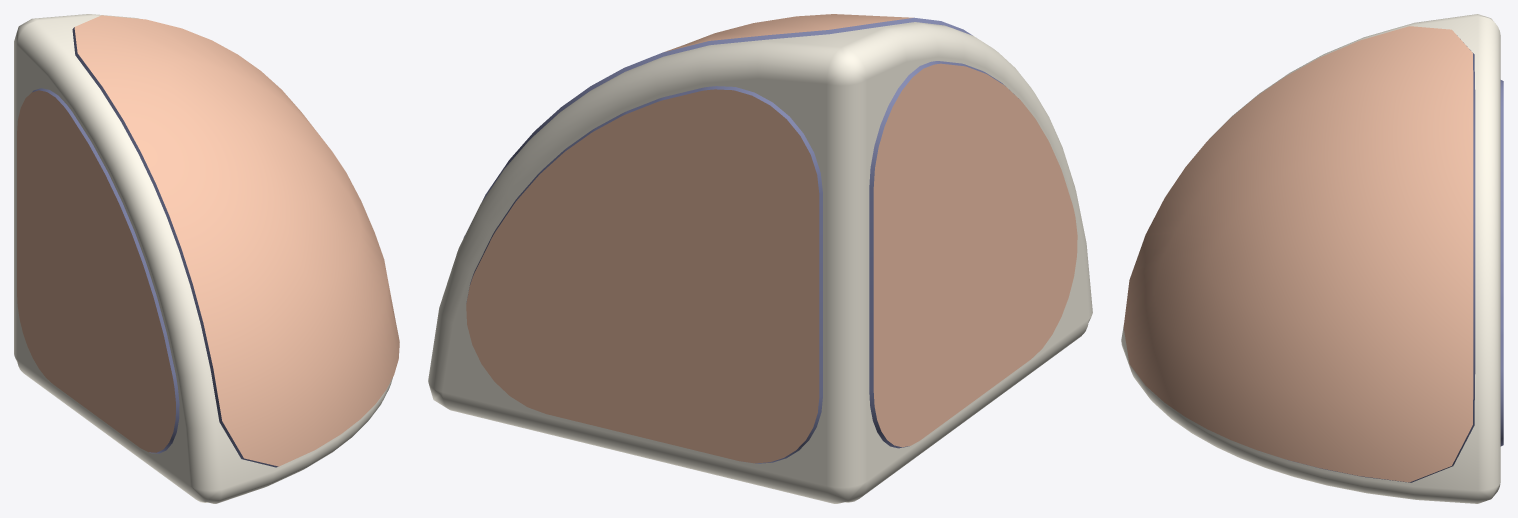
Rendered from R4B_RoundCorner.fbx.
3 views of the same model, side by side, from view 1: azimuth 30°, elevation 25°; view 2: azimuth 150°, elevation 25°; view 3: azimuth 270°, elevation 25° (orthographic). The views are drawn at different scales.
Visible parts, largest first — view 1: R4B_RoundCorner; view 2: R4B_RoundCorner; view 3: R4B_RoundCorner.
Boxes of the visible parts, bbox=[...] form: R4B_RoundCorner: bbox=[14, 14, 399, 503]; R4B_RoundCorner: bbox=[428, 14, 1092, 503]; R4B_RoundCorner: bbox=[1121, 14, 1503, 503].
Size of the model in its own units: 0.5087 by 0.5087 by 0.5087.
